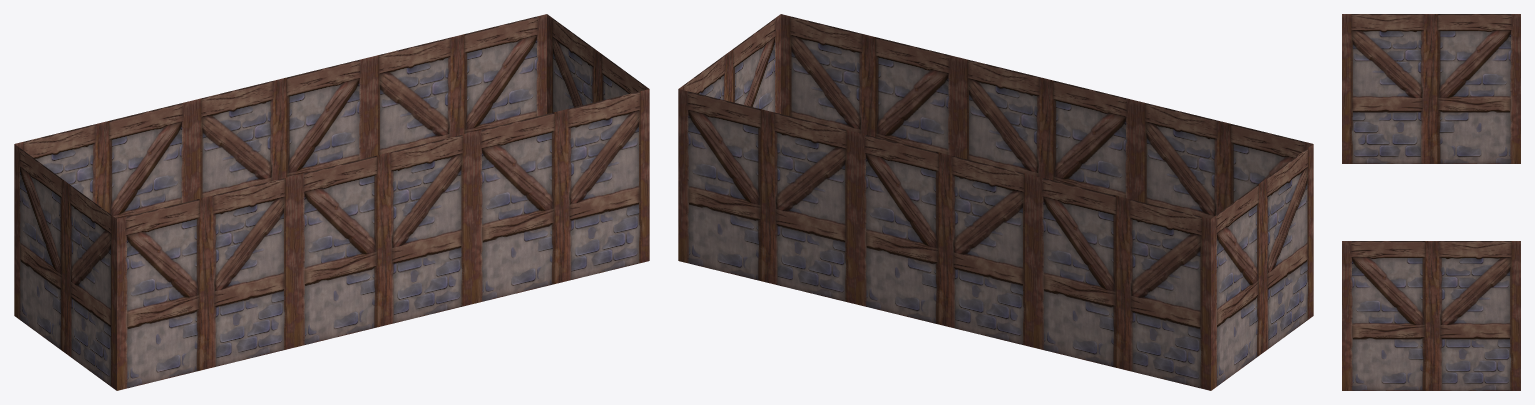
Rendered from wall_rejunte_up1x3.fbx.
The picture shows the model from 3 angles, left to right: view 1: azimuth 30°, elevation 25°; view 2: azimuth 150°, elevation 25°; view 3: azimuth 270°, elevation 25°; orthographic projection. The views are drawn at different scales.
Parts seen in each view (by area): view 1: parede_rejunte_cima1x3; view 2: parede_rejunte_cima1x3; view 3: parede_rejunte_cima1x3.
Part boxes in pixels (left/top/right/bottom): parede_rejunte_cima1x3: left=14, top=14, right=649, bottom=390; parede_rejunte_cima1x3: left=678, top=14, right=1313, bottom=390; parede_rejunte_cima1x3: left=1342, top=14, right=1520, bottom=390.
Size of the model in its own units: 449 by 139 by 150.
